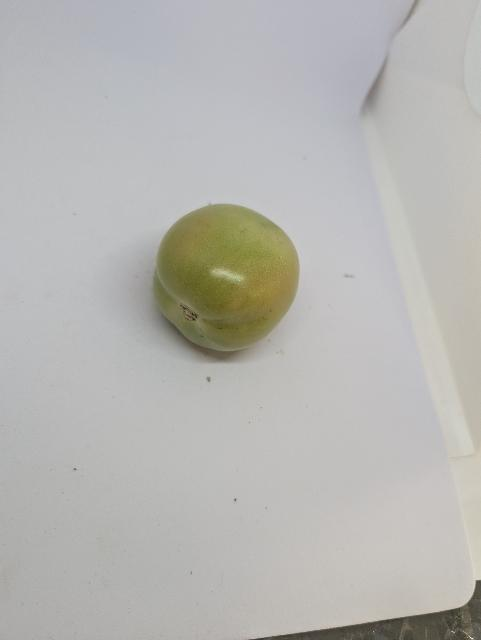green: (151, 199, 301, 354)
